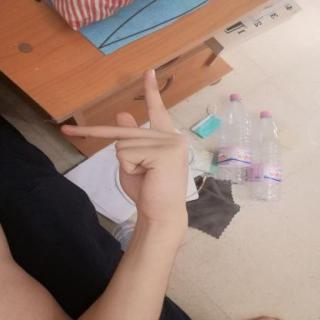DHAA: (49, 62, 200, 228)
